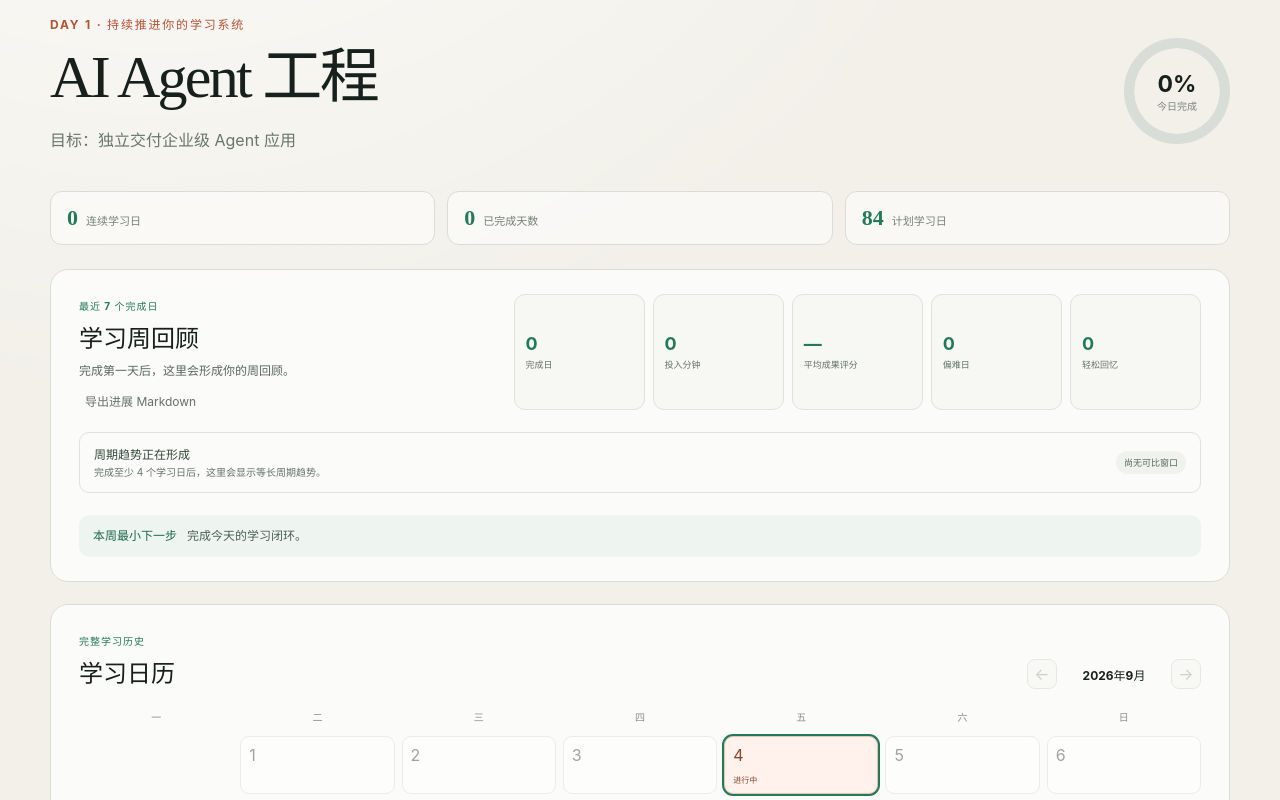
Test: learning data controls › downloads the weekly review and stage progress as Markdown
(page scrolled)
Step 1. Click the button "导出进展 Markdown" → (141,400), box [79,391,202,410]
(page scrolled)
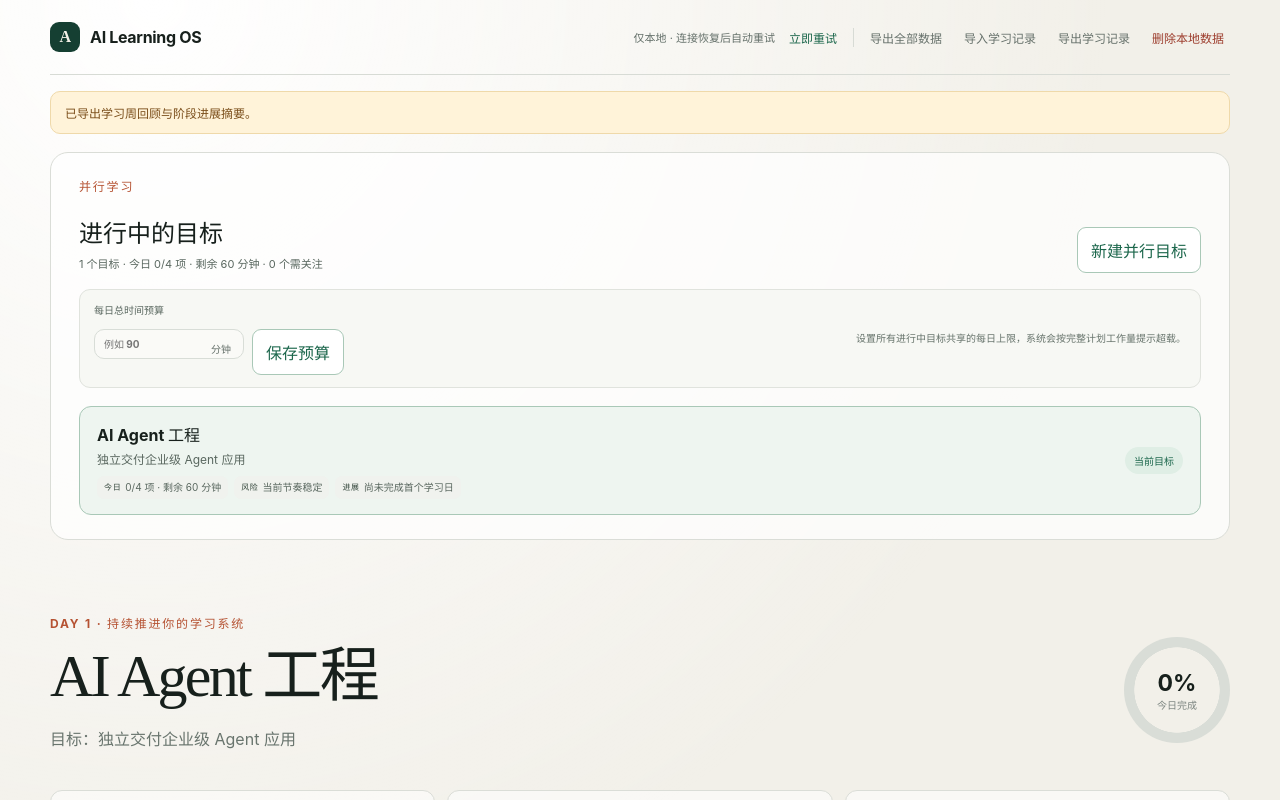
Now the text "已导出学习周回顾与阶段进展摘要。" is shown, box [50,91,1230,134]
